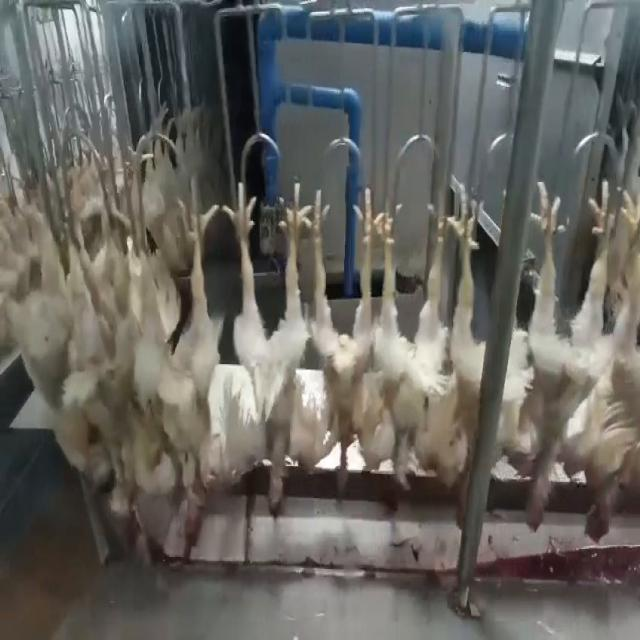chicken: (224, 172, 314, 526), (146, 170, 222, 552), (510, 183, 590, 529), (568, 188, 639, 547), (306, 192, 386, 498), (370, 190, 445, 509), (434, 185, 497, 530)
